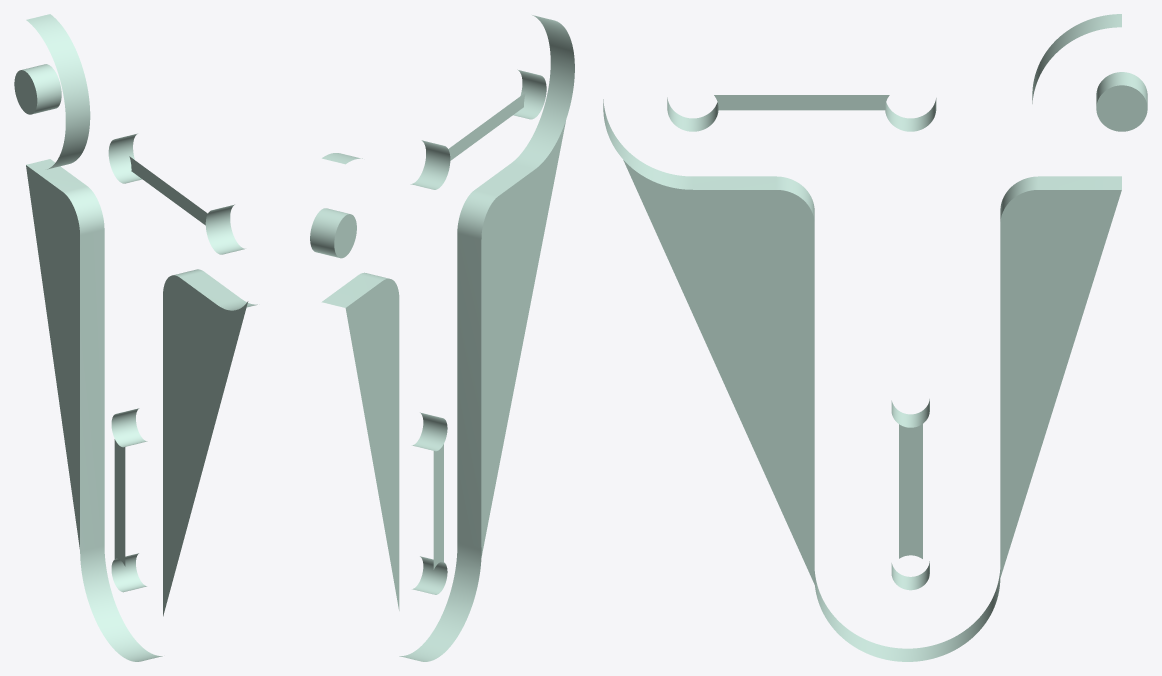
3 renders of one model, left to right at view 1: azimuth 30°, elevation 25°; view 2: azimuth 150°, elevation 25°; view 3: azimuth 270°, elevation 25°, orthographic. The views are drawn at different scales.
Visible parts, largest first — view 1: Renderer Node; view 2: Renderer Node; view 3: Renderer Node.
Boxes of the visible parts, box(x1,y1,x2,y2) form: Renderer Node: box(14, 14, 257, 661); Renderer Node: box(310, 15, 574, 661); Renderer Node: box(603, 14, 1147, 661).
Size of the model in its own units: 0.0625 by 1.39 by 1.08.
